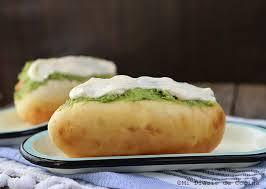Completos: (43, 73, 228, 162)
